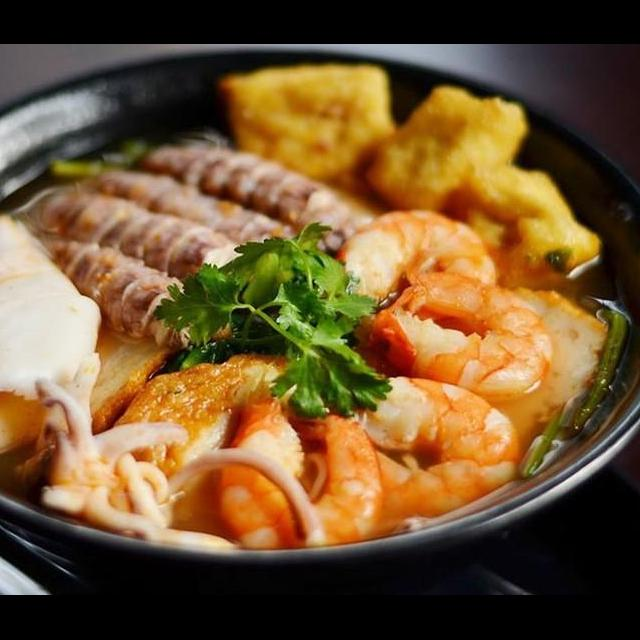bun hai san: (0, 76, 640, 595)
dau hu: (360, 78, 538, 220), (212, 58, 402, 188), (434, 160, 606, 298)
muc: (5, 350, 188, 550), (0, 204, 106, 462)
tom: (334, 372, 524, 540), (349, 264, 562, 409), (210, 394, 388, 558), (324, 202, 500, 331)
tom tit: (132, 140, 382, 258), (26, 178, 268, 292), (29, 226, 220, 356), (70, 158, 304, 262)
